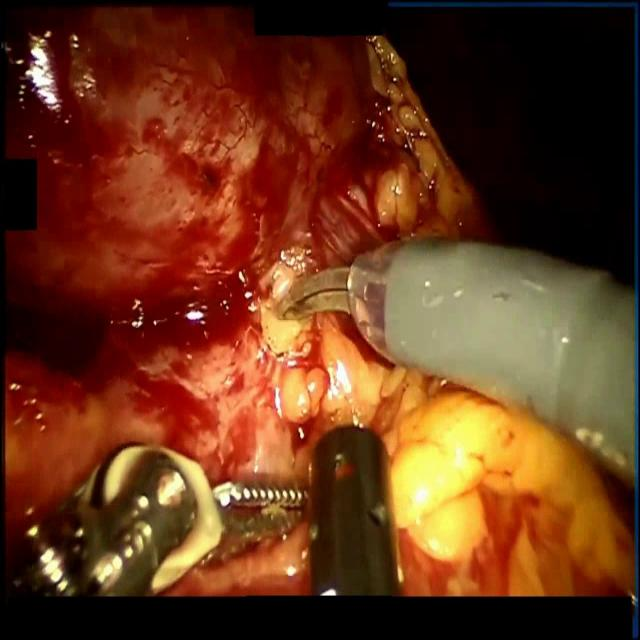surgical-area: (2, 4, 636, 596)
surgical-tool: (276, 237, 636, 494), (6, 441, 226, 596), (213, 423, 398, 595)
